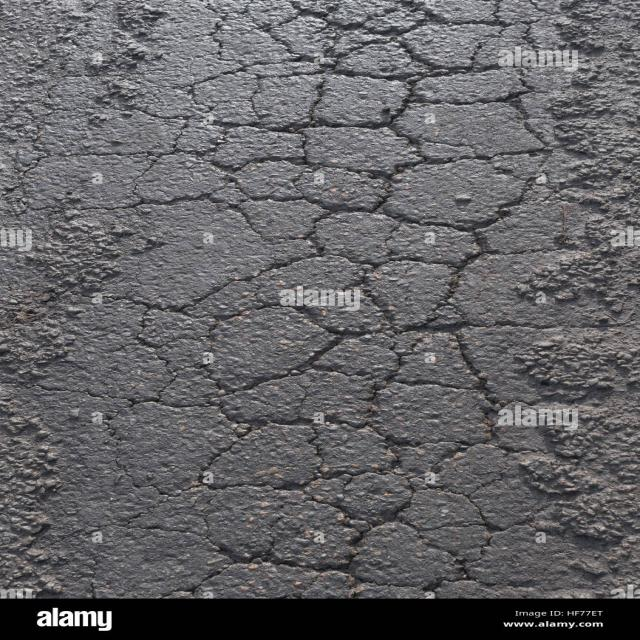Drain Hole: (117, 5, 619, 600)
